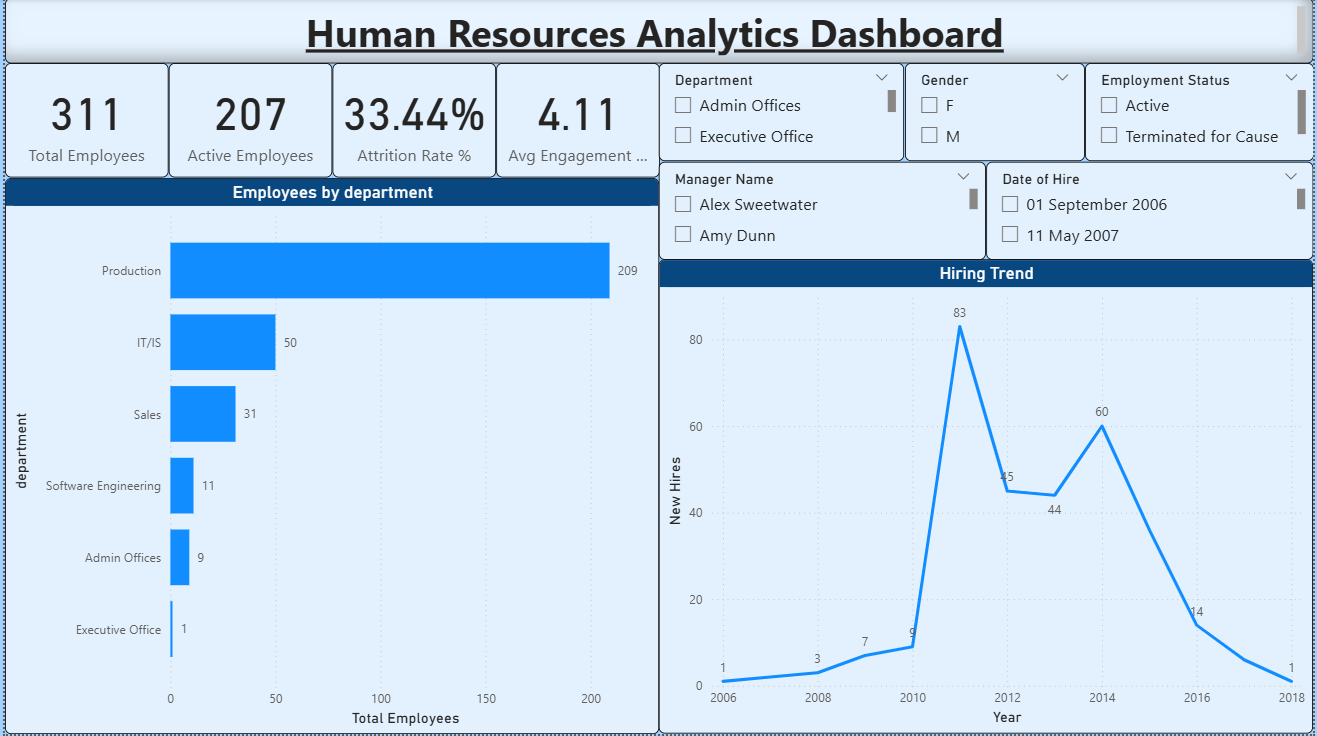

What the dashboard file says about the page in this screenshot:
{"tool":"powerbi","page":{"name":"HR Overview","canvas":[1280,720],"ordinal":0},"visuals":[{"type":"card","fields":{"Values":["HRDataset_v14_cleaned.Total Employees"]},"box":[0,64,160,112],"z":0},{"type":"card","fields":{"Values":["HRDataset_v14_cleaned.Active Employees"]},"box":[160,64,160,112],"z":1000},{"type":"card","fields":{"Values":["HRDataset_v14_cleaned.Attrition Rate %"]},"box":[320,64,160,112],"z":2000},{"type":"card","fields":{"Values":["HRDataset_v14_cleaned.Avg Engagement Score"]},"box":[480,64,160,112],"z":3000},{"type":"textbox","box":[0,0,1280,64],"z":4000},{"type":"clusteredBarChart","title":" Employees by department","fields":{"Category":["HRDataset_v14_cleaned.department"],"Y":["HRDataset_v14_cleaned.Total Employees"]},"box":[0,176,640,544],"z":5000},{"type":"lineChart","title":"Hiring Trend","fields":{"Category":["HRDataset_v14_cleaned.dateofhire.Variation.Date Hierarchy.Year","HRDataset_v14_cleaned.dateofhire.Variation.Date Hierarchy.Quarter","HRDataset_v14_cleaned.dateofhire.Variation.Date Hierarchy.Month","HRDataset_v14_cleaned.dateofhire.Variation.Date Hierarchy.Day"],"Y":["HRDataset_v14_cleaned.Total Employees"]},"box":[640,256,640,464],"z":6000},{"type":"slicer","fields":{"Values":["HRDataset_v14_cleaned.department"]},"box":[640,64,240,96],"z":7000},{"type":"slicer","fields":{"Values":["HRDataset_v14_cleaned.sex"]},"box":[880,64,176,96],"z":8000},{"type":"slicer","fields":{"Values":["HRDataset_v14_cleaned.employmentstatus"]},"box":[1056,64,224,96],"z":9000},{"type":"slicer","fields":{"Values":["HRDataset_v14_cleaned.managername"]},"box":[640,160,320,96],"z":10000},{"type":"slicer","fields":{"Values":["HRDataset_v14_cleaned.dateofhire"]},"box":[960,160,320,96],"z":11000}]}

Visuals, with their boxes in screenshot pixels (x1, y1, x2, y2), scaled from the page's 1280x720 canvas onto the 1317x736 screenshot:
card - HRDataset_v14_cleaned.Total Employees: {"left": 0, "top": 65, "right": 165, "bottom": 180}
card - HRDataset_v14_cleaned.Active Employees: {"left": 165, "top": 65, "right": 329, "bottom": 180}
card - HRDataset_v14_cleaned.Attrition Rate %: {"left": 329, "top": 65, "right": 494, "bottom": 180}
card - HRDataset_v14_cleaned.Avg Engagement Score: {"left": 494, "top": 65, "right": 658, "bottom": 180}
textbox: {"left": 0, "top": 0, "right": 1316, "bottom": 65}
" Employees by department" clusteredBarChart: {"left": 0, "top": 180, "right": 658, "bottom": 735}
"Hiring Trend" lineChart: {"left": 658, "top": 262, "right": 1316, "bottom": 735}
slicer - HRDataset_v14_cleaned.department: {"left": 658, "top": 65, "right": 905, "bottom": 164}
slicer - HRDataset_v14_cleaned.sex: {"left": 905, "top": 65, "right": 1087, "bottom": 164}
slicer - HRDataset_v14_cleaned.employmentstatus: {"left": 1087, "top": 65, "right": 1316, "bottom": 164}
slicer - HRDataset_v14_cleaned.managername: {"left": 658, "top": 164, "right": 988, "bottom": 262}
slicer - HRDataset_v14_cleaned.dateofhire: {"left": 988, "top": 164, "right": 1316, "bottom": 262}
